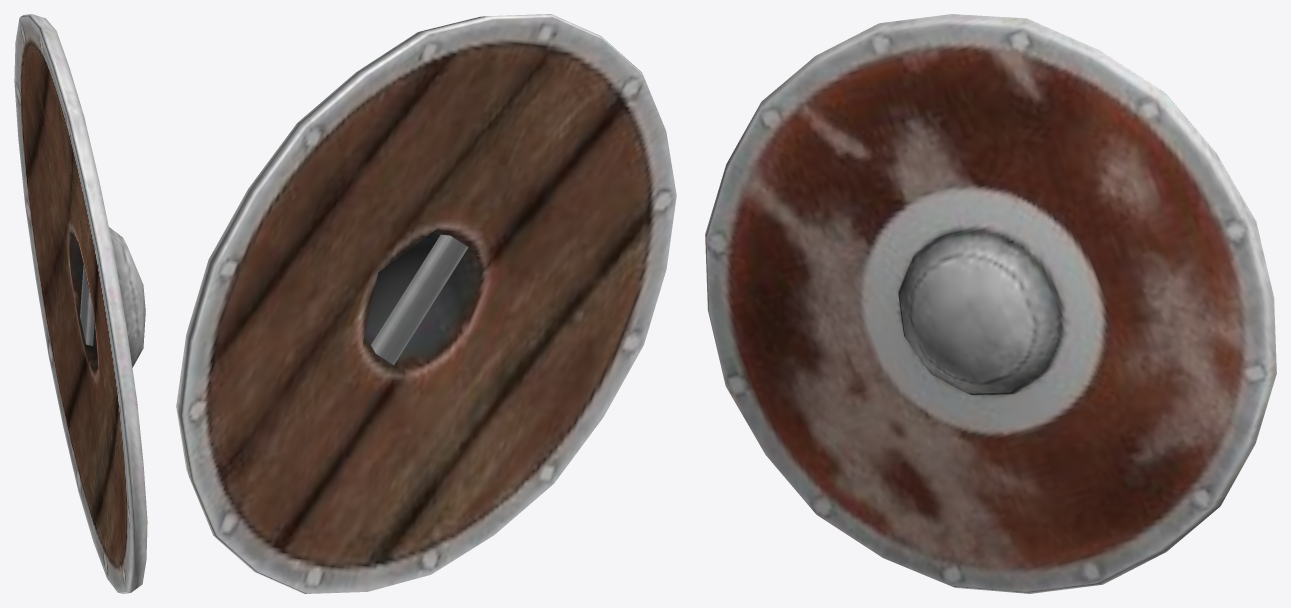
Rendered from rider-shield-slice-coppershields.glb.
The picture shows the model from 3 angles, left to right: view 1: azimuth 30°, elevation 25°; view 2: azimuth 150°, elevation 25°; view 3: azimuth 270°, elevation 25°; orthographic projection. The views are drawn at different scales.
Bounding box in the file's own units: 0.1638 × 0.4332 × 0.4063.
1 material, 1 textured.
